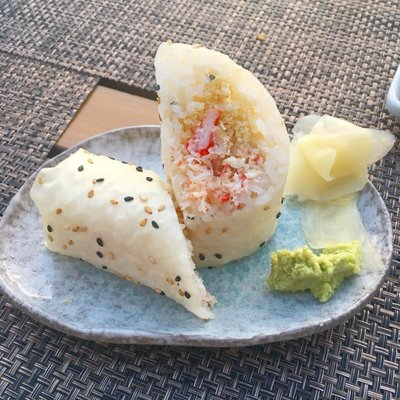curry: (266, 241, 364, 303)
